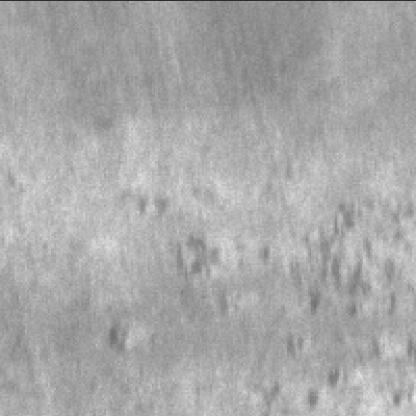rolled-in_scale: (285, 177, 416, 410), (112, 185, 226, 345)
